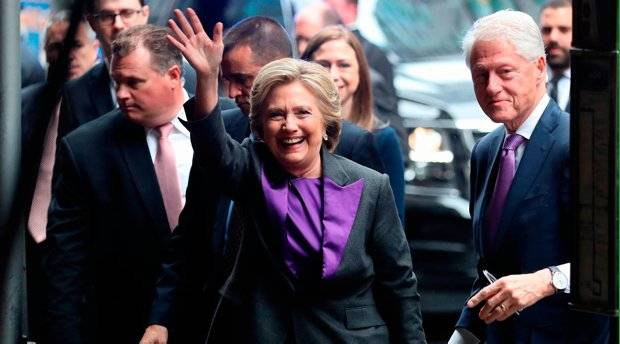finger: (463, 281, 497, 308), (484, 297, 509, 325), (478, 290, 501, 319), (186, 5, 204, 33), (174, 9, 192, 34), (168, 19, 188, 40), (165, 34, 185, 51), (497, 306, 515, 322)
